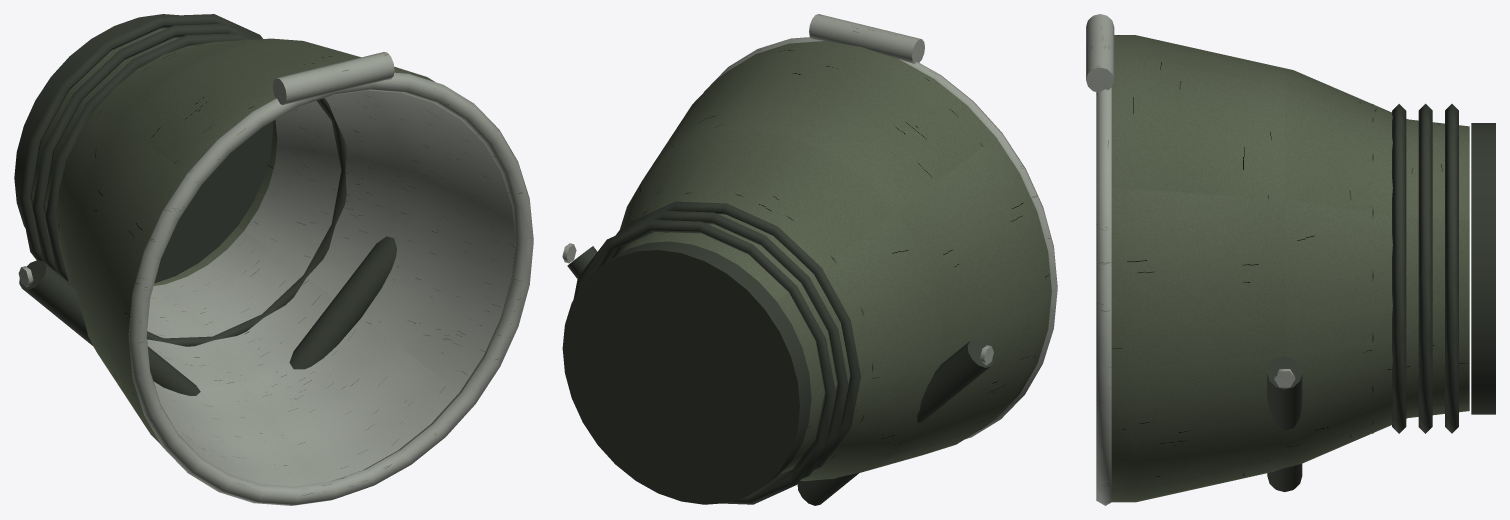
Rendered from SM_FieldKit_LampHead.fbx.
3 renders of one model, left to right at view 1: azimuth 30°, elevation 25°; view 2: azimuth 150°, elevation 25°; view 3: azimuth 270°, elevation 25°, orthographic. The views are drawn at different scales.
Parts seen in each view (by area): view 1: SM_FieldKit_LampHead; view 2: SM_FieldKit_LampHead; view 3: SM_FieldKit_LampHead.
Boxes of the visible parts, <box> form: SM_FieldKit_LampHead: <box>14,14,533,505</box>; SM_FieldKit_LampHead: <box>562,14,1057,505</box>; SM_FieldKit_LampHead: <box>1086,14,1495,505</box>.
Size of the model in its own units: 0.2961 by 0.233 by 0.278.
